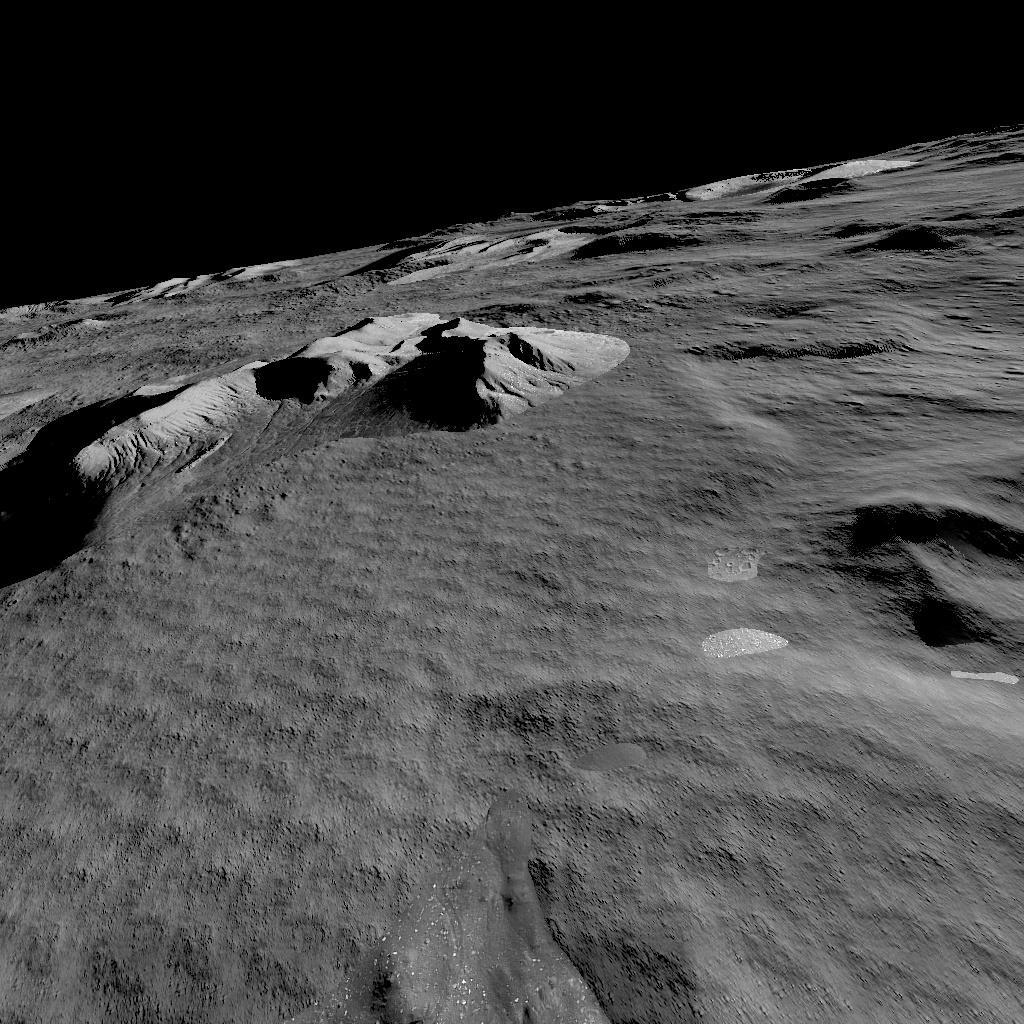Boulders: (6, 308, 638, 552), (363, 152, 1012, 287), (111, 257, 299, 301)
Crater: (0, 963, 1024, 1024), (829, 474, 1024, 678), (689, 320, 894, 391)
Plan surface: (4, 590, 802, 933)
